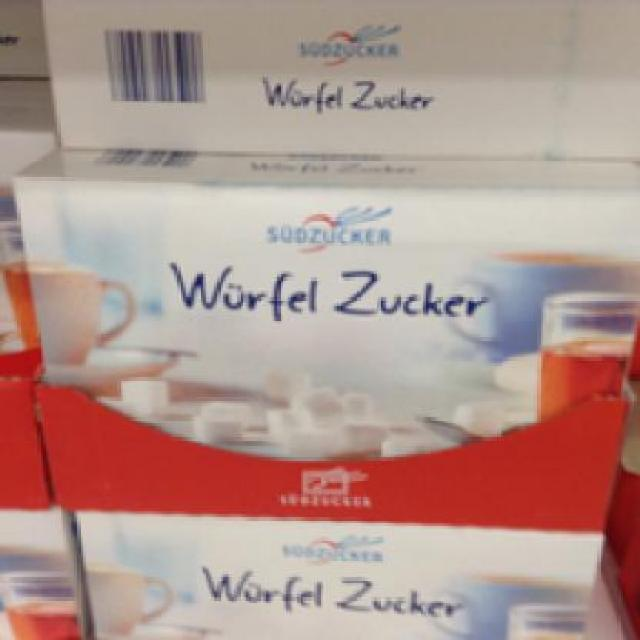Sugar: (8, 146, 634, 460)
